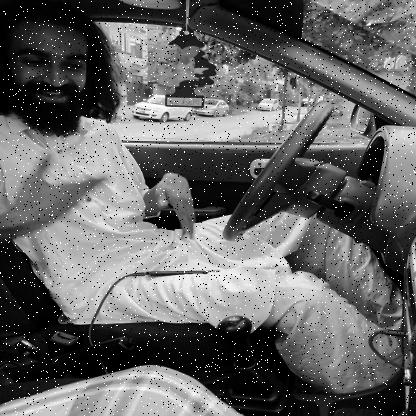no_seatbelt: (9, 1, 160, 260)
